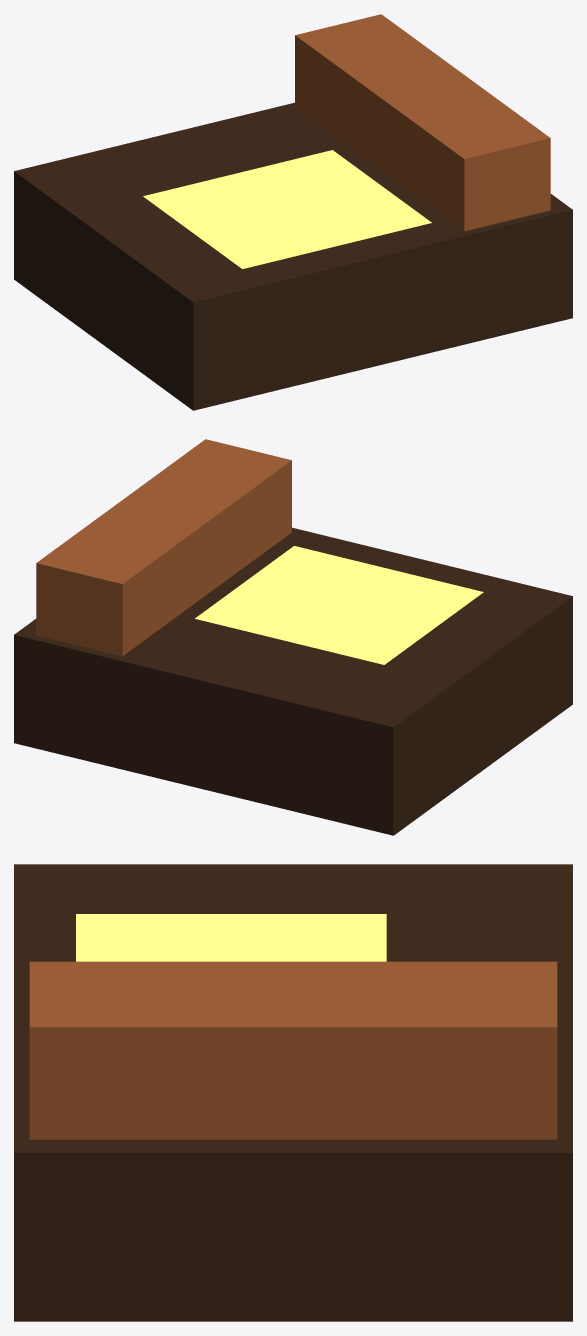
Rendered from desk_phone.glb.
3 views of the same model, one above another, from view 1: azimuth 30°, elevation 25°; view 2: azimuth 150°, elevation 25°; view 3: azimuth 270°, elevation 25° (orthographic). The views are drawn at different scales.
Parts seen in each view (by area): view 1: desk_phone; view 2: desk_phone; view 3: desk_phone.
Part boxes in pixels (left/top/right/bottom): desk_phone: left=14, top=14, right=572, bottom=410; desk_phone: left=14, top=439, right=572, bottom=835; desk_phone: left=14, top=864, right=572, bottom=1321.
Size of the model in its own units: 0.22 by 0.1 by 0.18.
